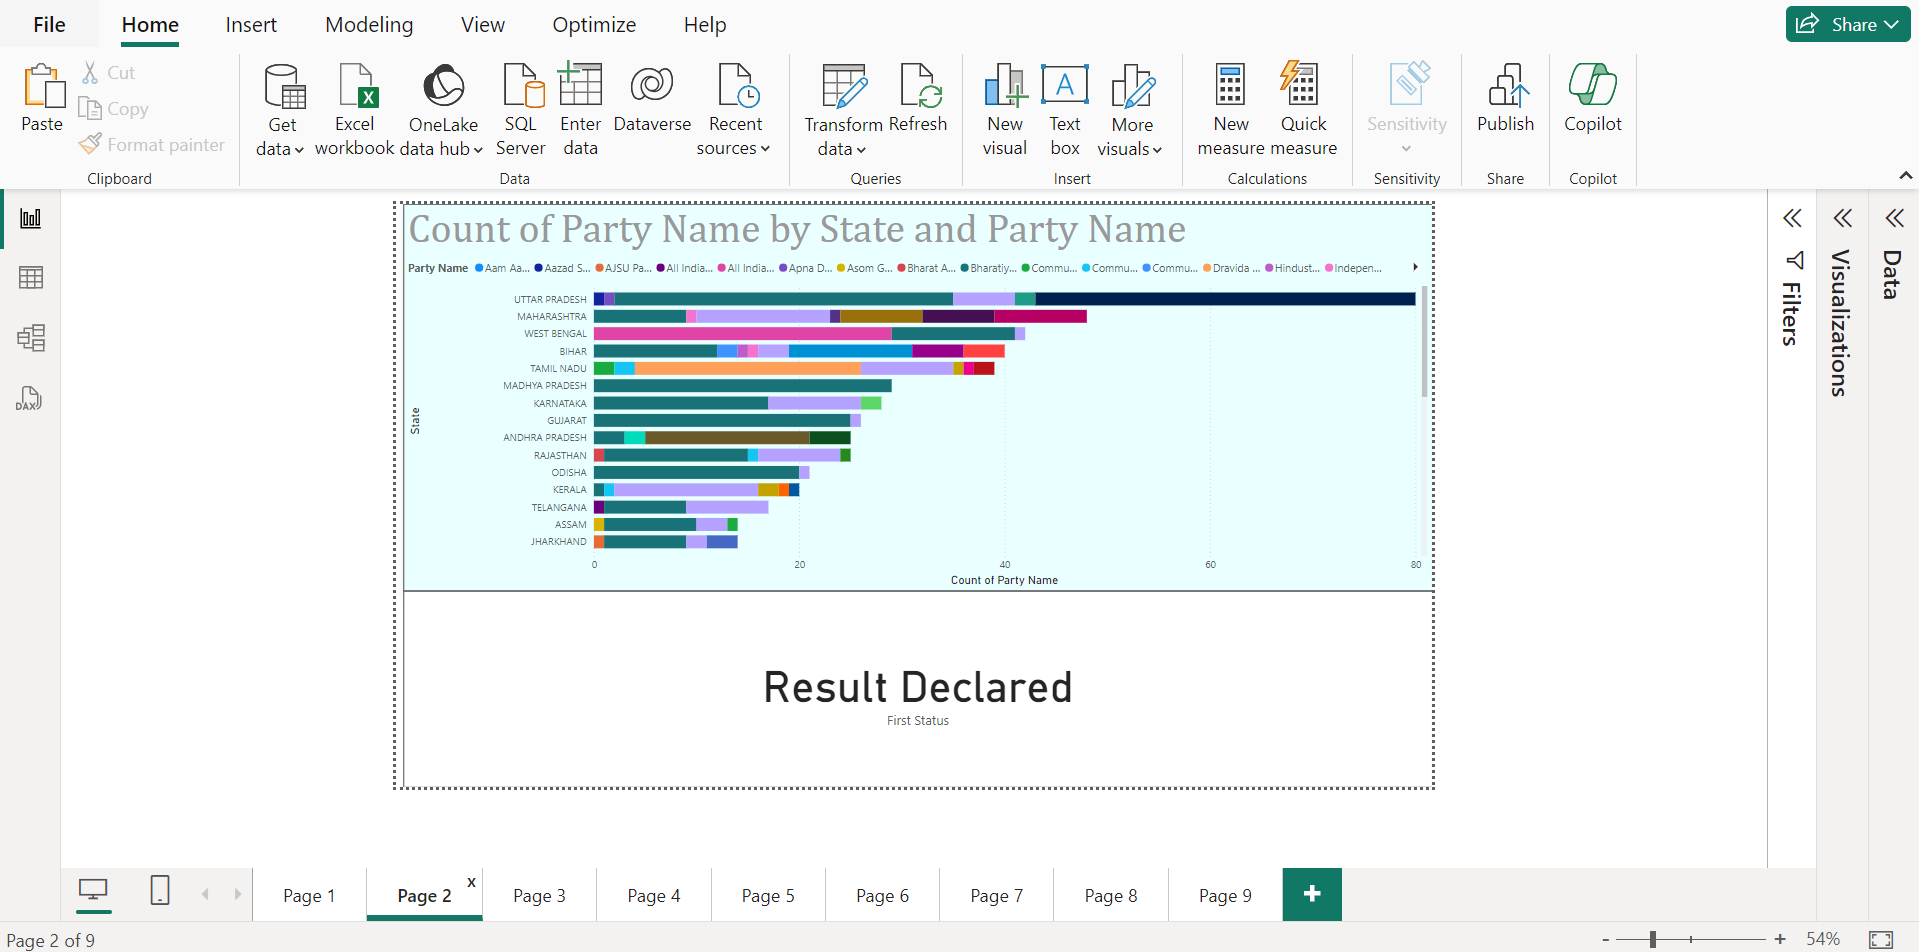

The page's visual inventory and layout, read from the dashboard file:
{"tool":"powerbi","page":{"name":"Page 2","canvas":[1280,720],"ordinal":1},"visuals":[{"type":"barChart","fields":{"Series":["Table_1.Party Name"],"Y":["CountNonNull(Table_1.Party Name)"],"Category":["Table_1.State"]},"box":[9.3,0,1270.4,477.8],"z":0},{"type":"card","fields":{"Values":["Min(Sheet1.Status)"]},"box":[9.3,477.8,1270.4,242.6],"z":1000}]}

Visuals, with their boxes on the page's 1280x720 design canvas (x1, y1, x2, y2). These are canvas units, not pixel positions in the 1919x952 screenshot, which may show the page scaled, cropped or inside an application window:
barChart - Table_1.Party Name x CountNonNull(Table_1.Party Name): select_region(9, 0, 1280, 478)
card - Min(Sheet1.Status): select_region(9, 478, 1280, 720)
